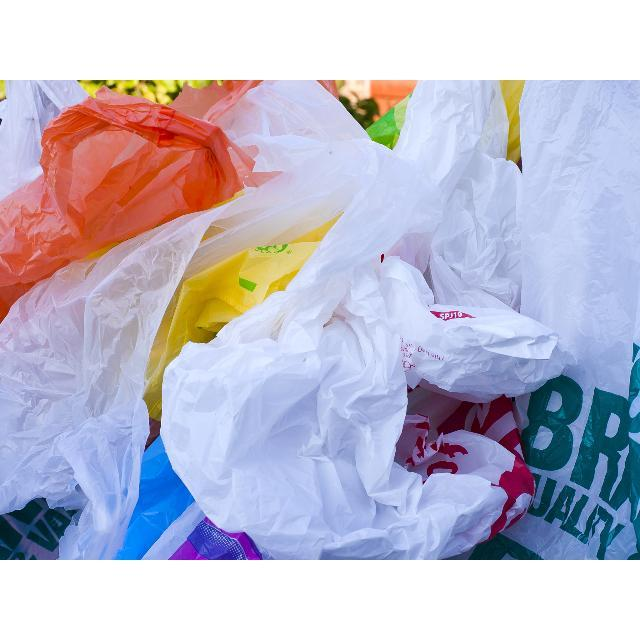Single-layer Plastic: (0, 82, 385, 558), (161, 158, 508, 558), (471, 81, 640, 559), (0, 81, 258, 318), (379, 82, 562, 401)
